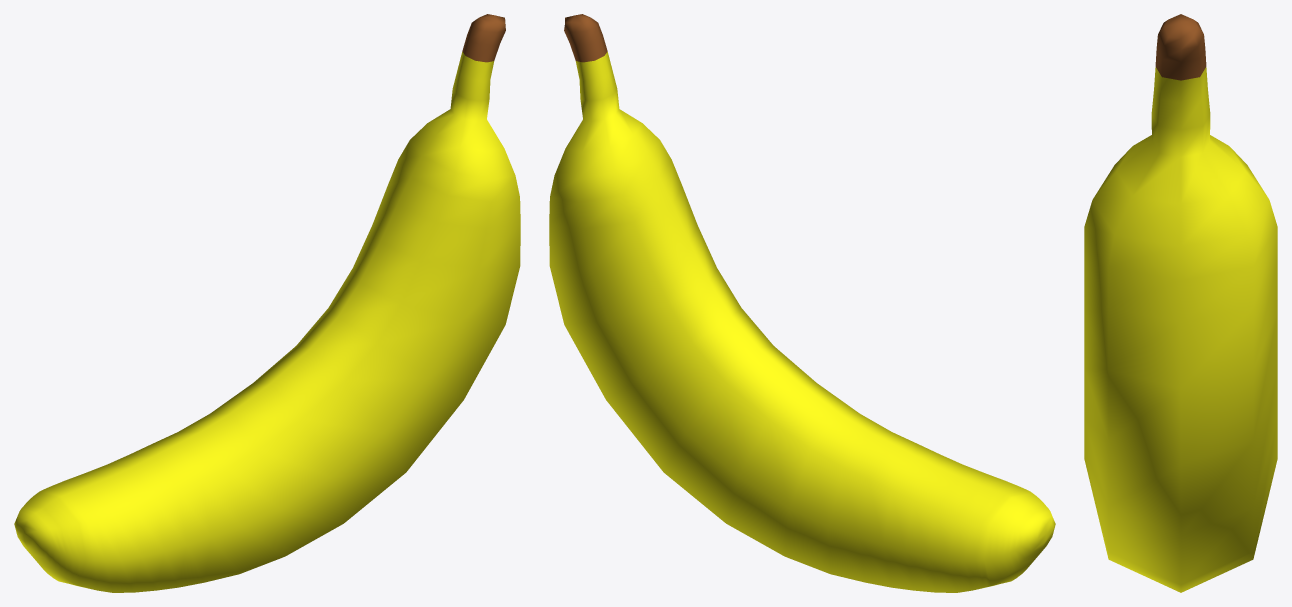
File: Banana.glb
3 renders of one model, left to right at view 1: azimuth 30°, elevation 25°; view 2: azimuth 150°, elevation 25°; view 3: azimuth 270°, elevation 25°, orthographic. The views are drawn at different scales.
Parts seen in each view (by area): view 1: banana_mesh; view 2: banana_mesh; view 3: banana_mesh.
Part boxes in pixels (bbox=[...]): banana_mesh: bbox=[14, 14, 520, 592]; banana_mesh: bbox=[549, 14, 1055, 592]; banana_mesh: bbox=[1084, 14, 1277, 592].
Size of the model in its own units: 4.26 by 4.09 by 0.9859.
